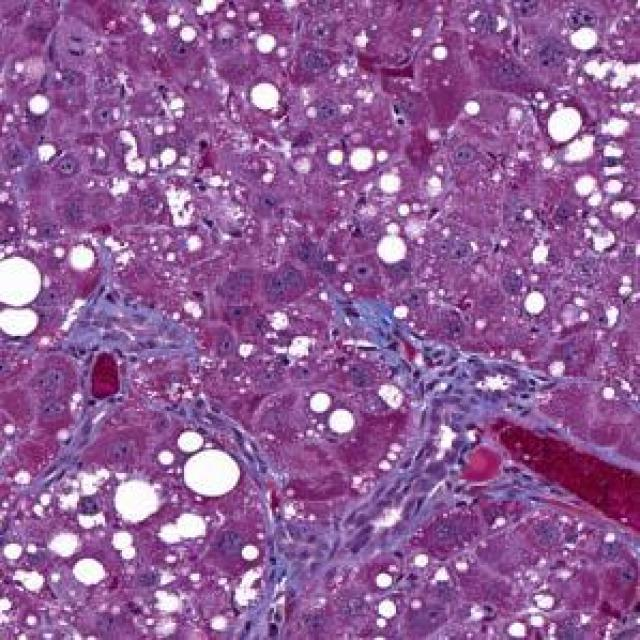fibrosis: (342, 310, 503, 434)
